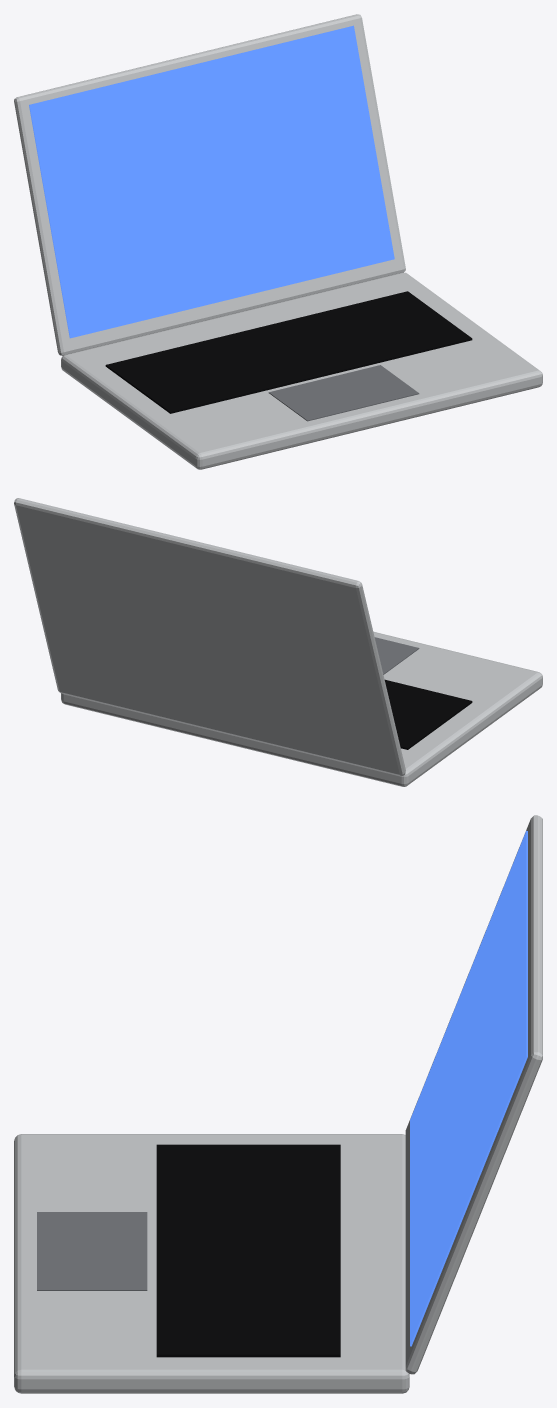
The model's file is tech_laptop.glb.
3 renders of one model, top to bottom at view 1: azimuth 30°, elevation 25°; view 2: azimuth 150°, elevation 25°; view 3: azimuth 270°, elevation 25°, orthographic. The views are drawn at different scales.
Parts seen in each view (by area): view 1: Laptop; view 2: Laptop; view 3: Laptop.
Boxes of the visible parts, x1,y1,x2,y2 form: Laptop: (14,14,542,469); Laptop: (14,498,542,786); Laptop: (14,815,542,1393).
Bounding box in the file's own units: 0.31 × 0.2048 × 0.2874.
